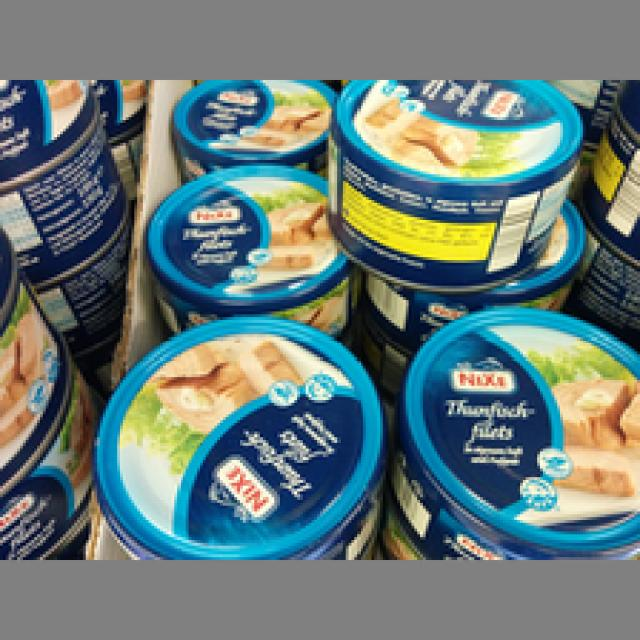groceries: (94, 314, 383, 557), (389, 303, 637, 554), (329, 77, 580, 289), (137, 160, 354, 337), (168, 77, 328, 172)
